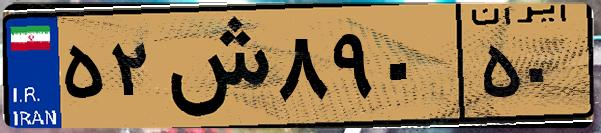0: (385, 28, 445, 110), (525, 38, 570, 115)
2: (110, 28, 158, 98)
5: (57, 26, 110, 100), (475, 38, 525, 113)
8: (270, 28, 330, 110)
9: (330, 28, 385, 110)
ش: (158, 12, 270, 120)
